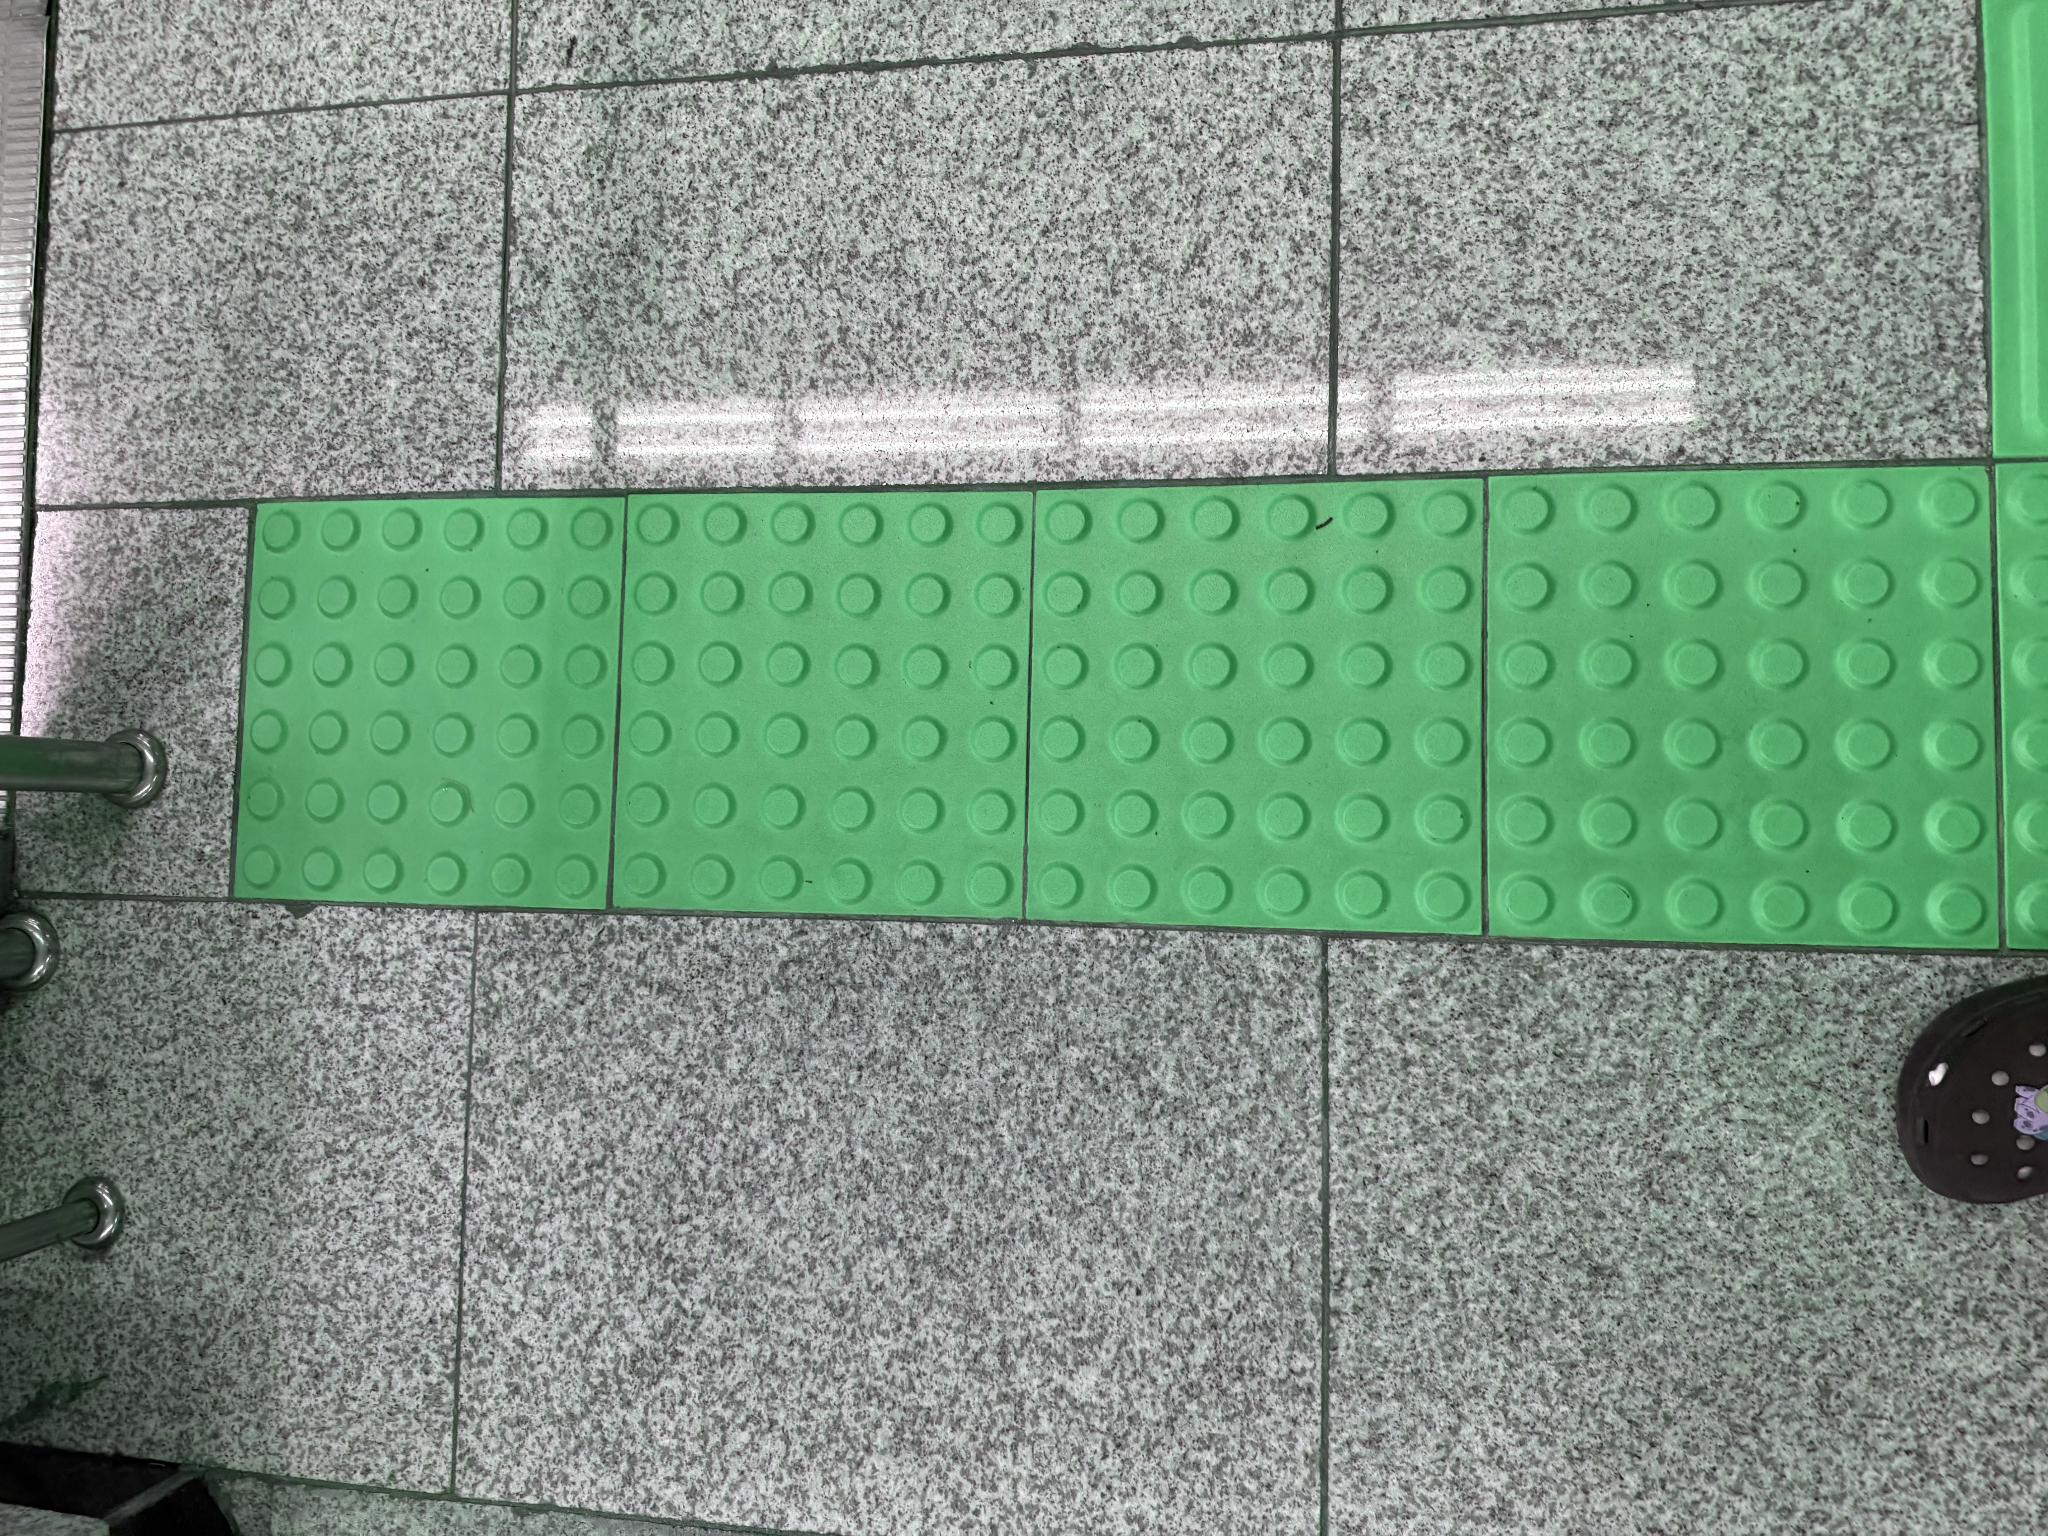Stop block normal: (627, 632, 1039, 1018)
